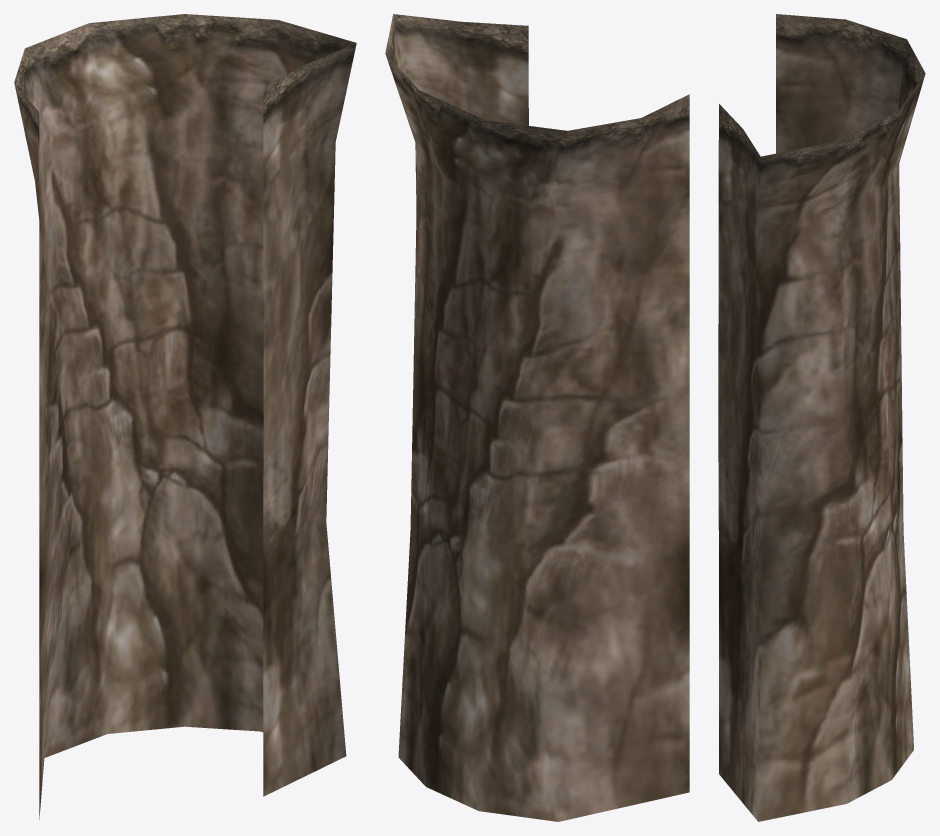
Rendered from OVERHILL_A_01_LINE37.fbx.
The picture shows the model from 3 angles, left to right: view 1: azimuth 30°, elevation 25°; view 2: azimuth 150°, elevation 25°; view 3: azimuth 270°, elevation 25°; orthographic projection. The views are drawn at different scales.
Parts seen in each view (by area): view 1: OVERHILL_A_01_LINE37; view 2: OVERHILL_A_01_LINE37; view 3: OVERHILL_A_01_LINE37.
Boxes of the visible parts, bbox=[...] form: OVERHILL_A_01_LINE37: bbox=[14, 14, 356, 819]; OVERHILL_A_01_LINE37: bbox=[385, 14, 689, 821]; OVERHILL_A_01_LINE37: bbox=[718, 14, 925, 821].
Bounding box in the file's own units: 33355 × 73100 × 20475.
Materials: 2 (2 with a texture image).
